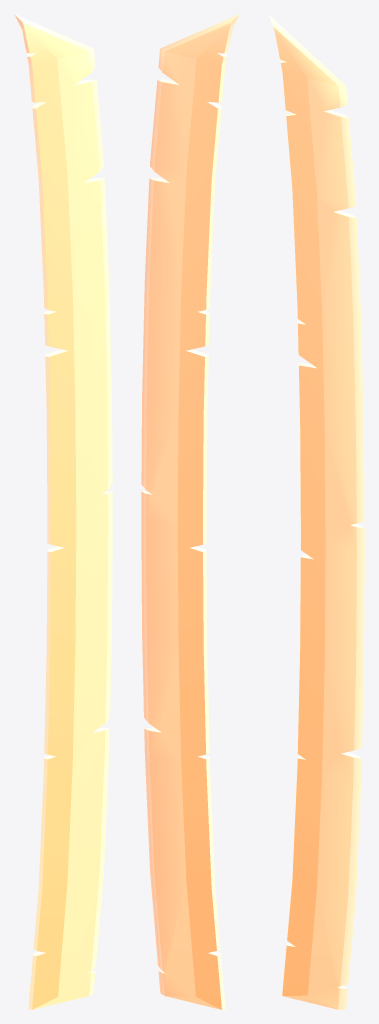
The model's file is wood_blade_scratched_078.glb.
3 renders of one model, left to right at view 1: azimuth 30°, elevation 25°; view 2: azimuth 150°, elevation 25°; view 3: azimuth 330°, elevation 25°, orthographic. The views are drawn at different scales.
Parts seen in each view (by area): view 1: wood_blade_scratched.078; view 2: wood_blade_scratched.078; view 3: wood_blade_scratched.078.
Boxes of the visible parts, left/top/right/bottom form: wood_blade_scratched.078: left=14, top=14, right=112, bottom=1009; wood_blade_scratched.078: left=141, top=14, right=239, bottom=1009; wood_blade_scratched.078: left=268, top=14, right=364, bottom=1009.
Bounding box in the file's own units: 1.22 × 11.77 × 0.0749.
Materials: 1 (1 with a texture image).
